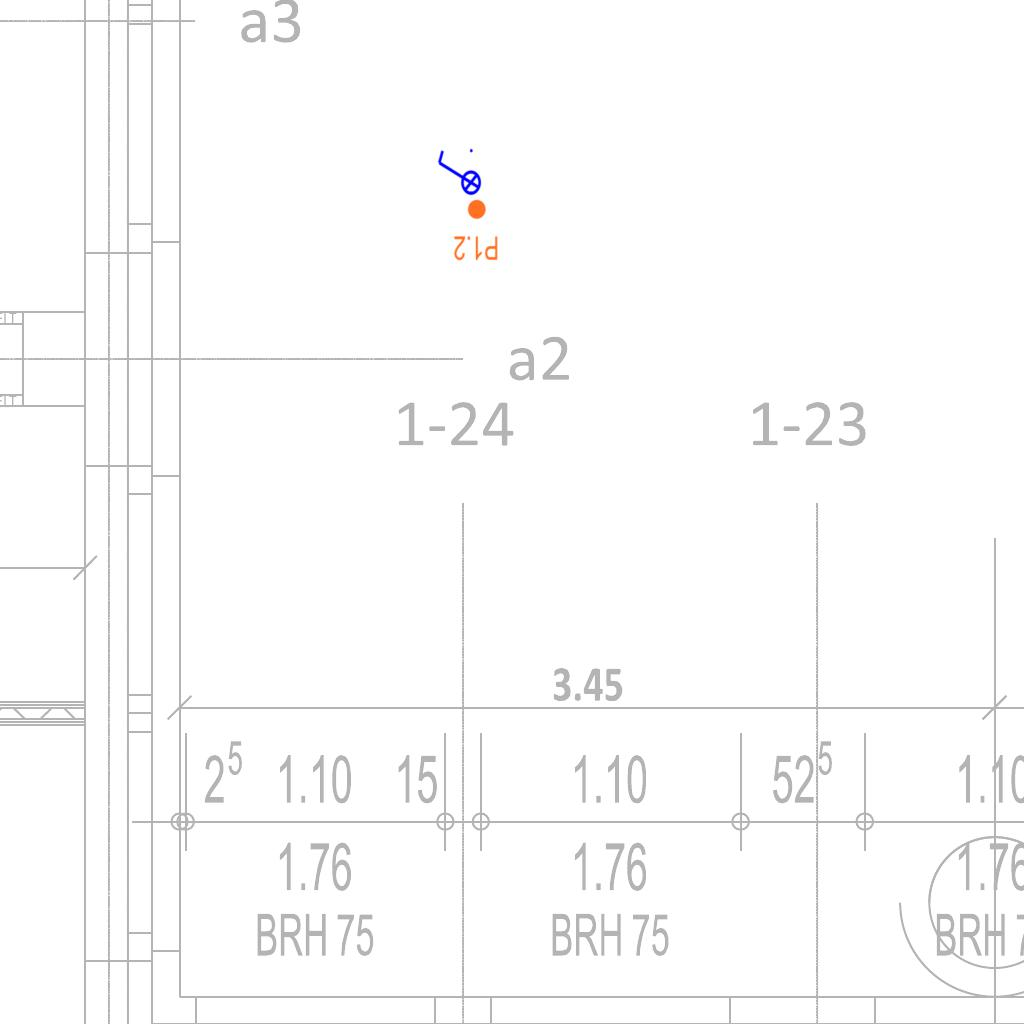Ausschalter_beleuchtet: (434, 146, 482, 202)
Downlight_LED_Einbauleuchten_Flur: (453, 198, 499, 262)
